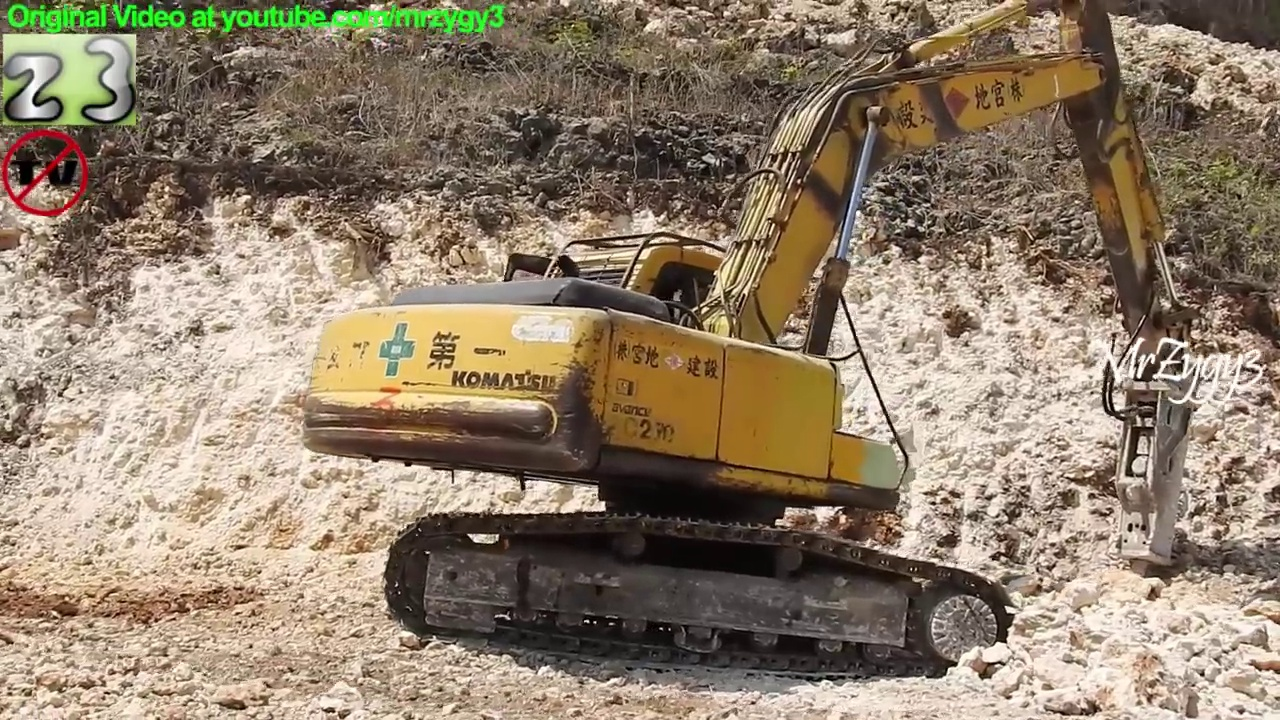excavator breaker: (291, 1, 1215, 692)
